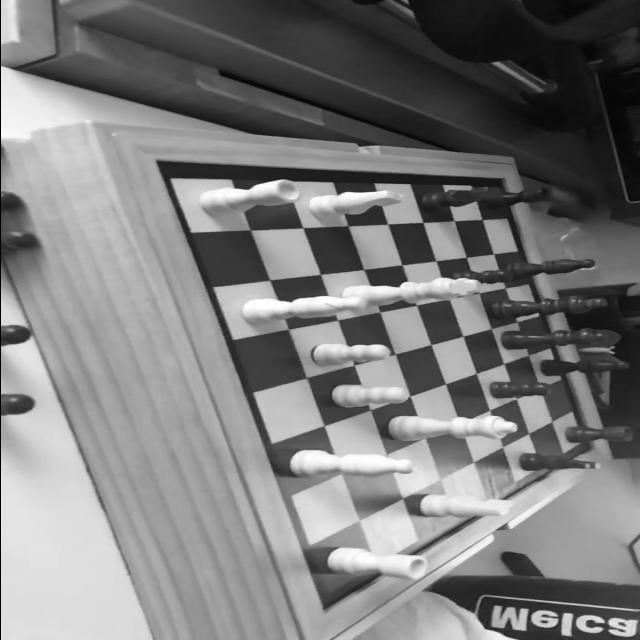chess-table-corners: (144, 154, 174, 178), (309, 599, 342, 617), (583, 441, 606, 456), (490, 174, 516, 186)
